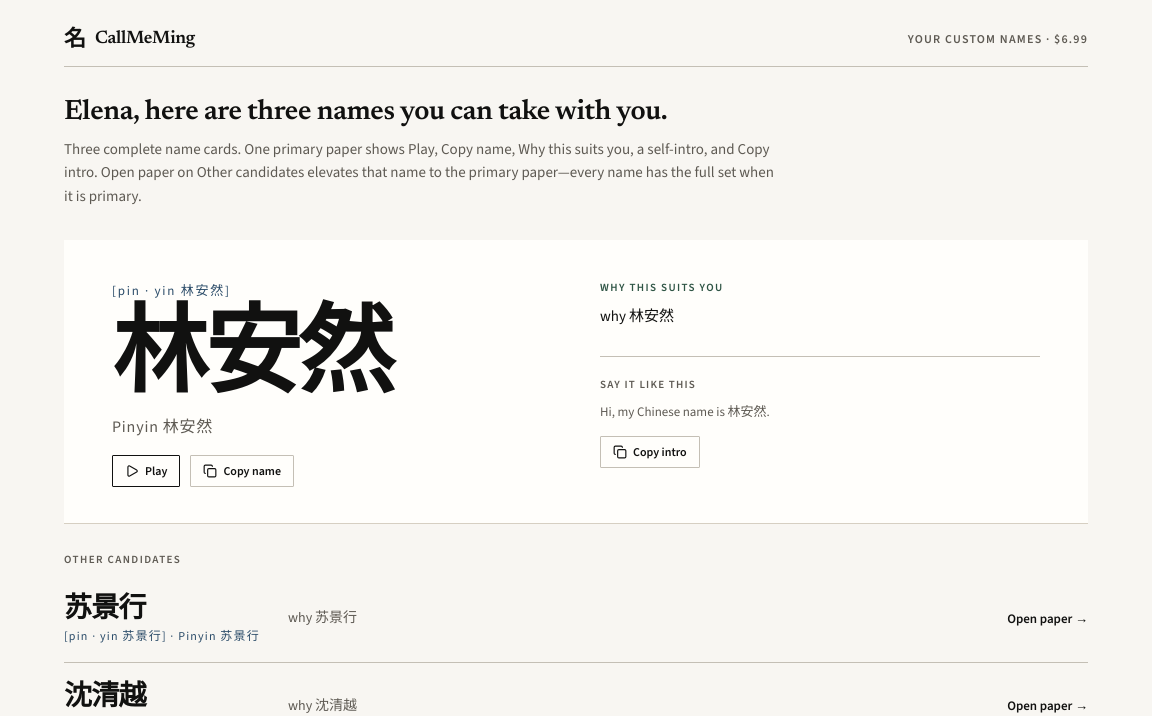
Test: ResultView F-T7/F-T8 › Open paper elevates another card to primary
Expected: the text "林安然" is shown, [112,299,391,406]
Click the button "Open paper →" in the row of "why 苏景行". click: (1048, 618)
box: [1007,610,1088,627]
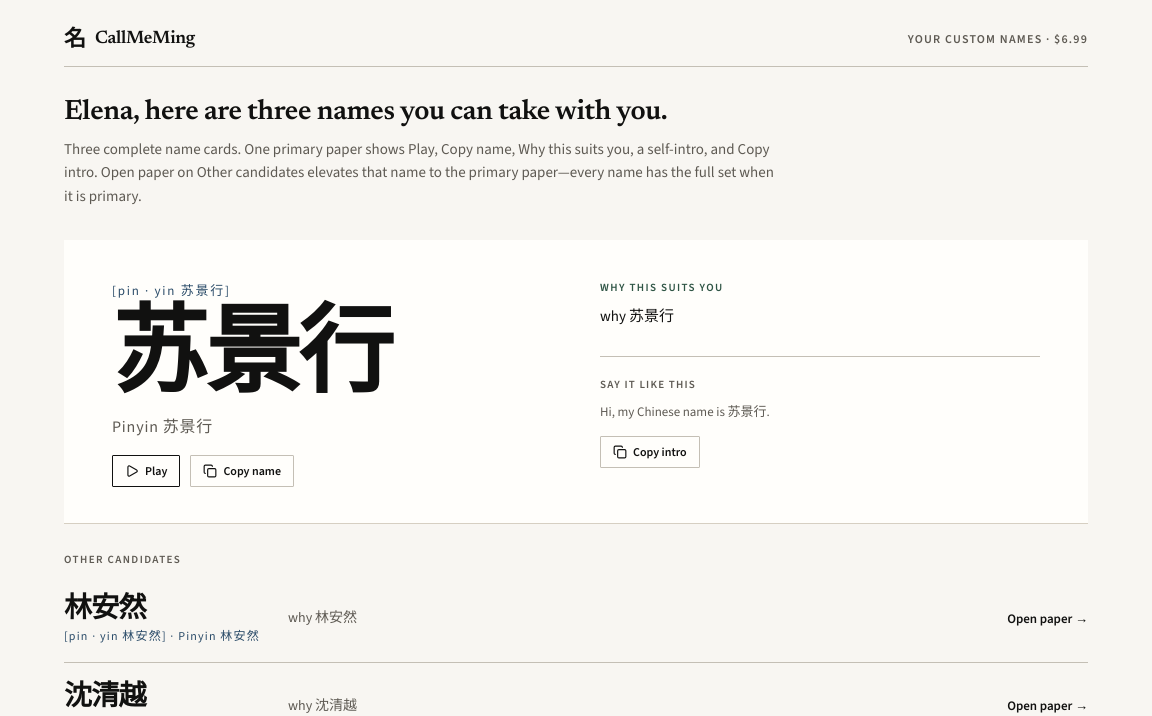
Expected: the text "苏景行" is shown, [112,299,391,406]
